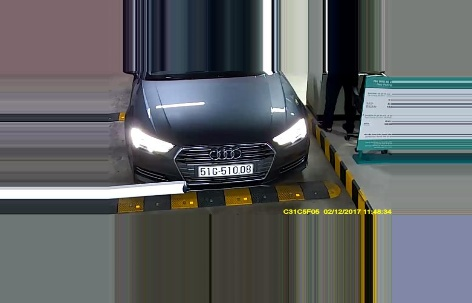plate: (197, 162, 253, 175)
